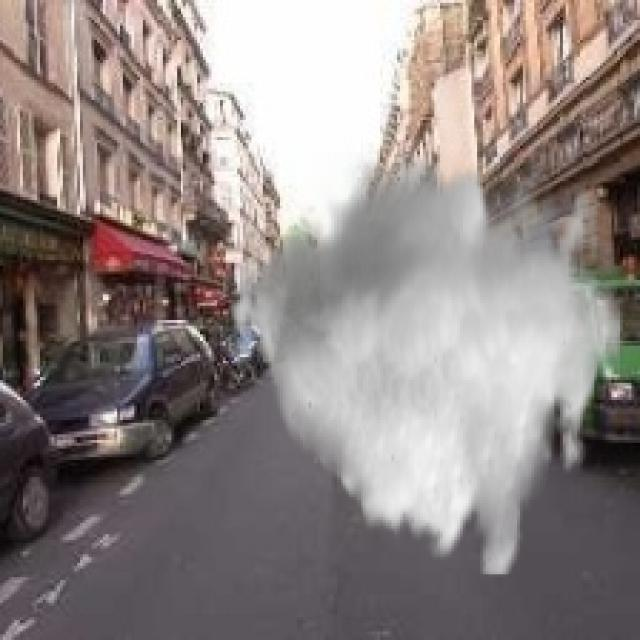Smoke: (220, 152, 623, 577)
